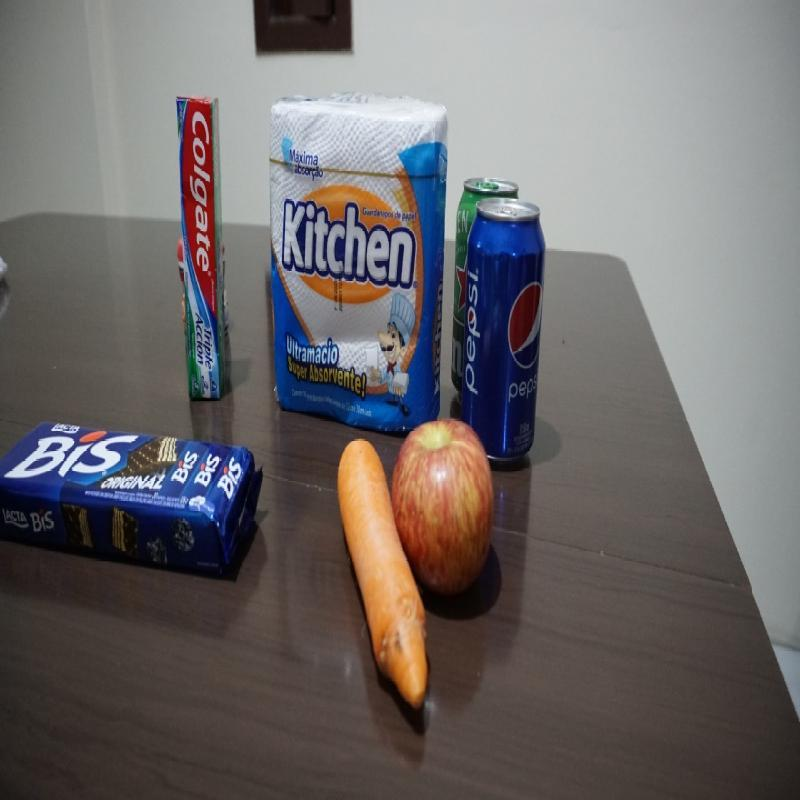Apple: (402, 422, 495, 598)
Carrot: (336, 434, 396, 709)
Napkin: (269, 93, 446, 419)
Soda can: (468, 203, 544, 455)
Toothpaste: (175, 99, 231, 400)
